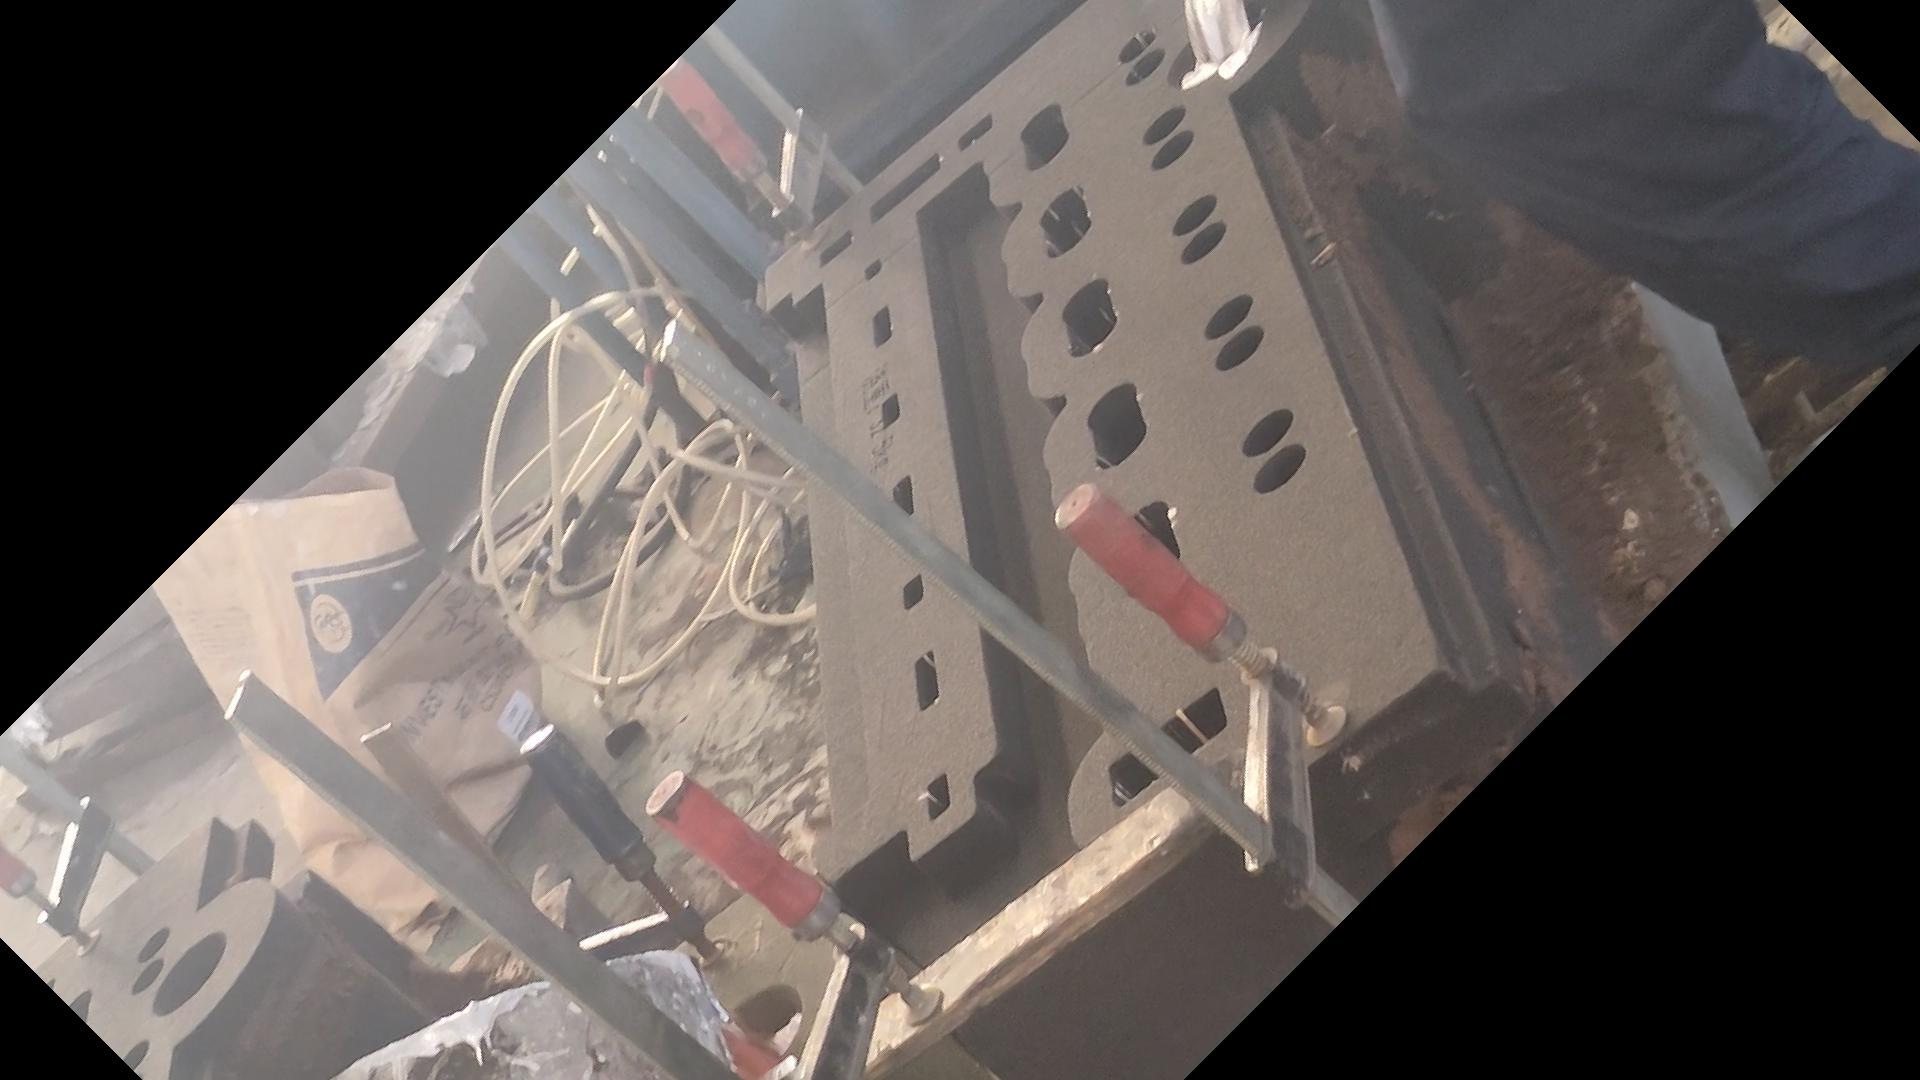pouring hole: (1166, 3, 1270, 88), (703, 982, 804, 1062), (153, 930, 225, 1015)
